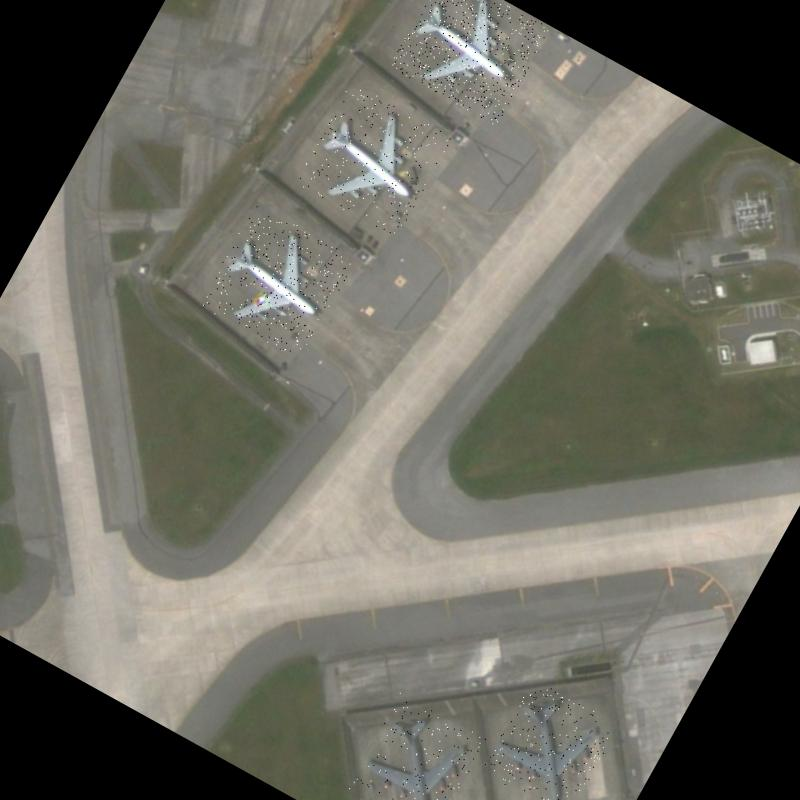A11: (198, 202, 356, 361), (294, 81, 452, 239), (388, 0, 550, 126)
A14: (479, 677, 618, 800), (345, 691, 487, 800)
